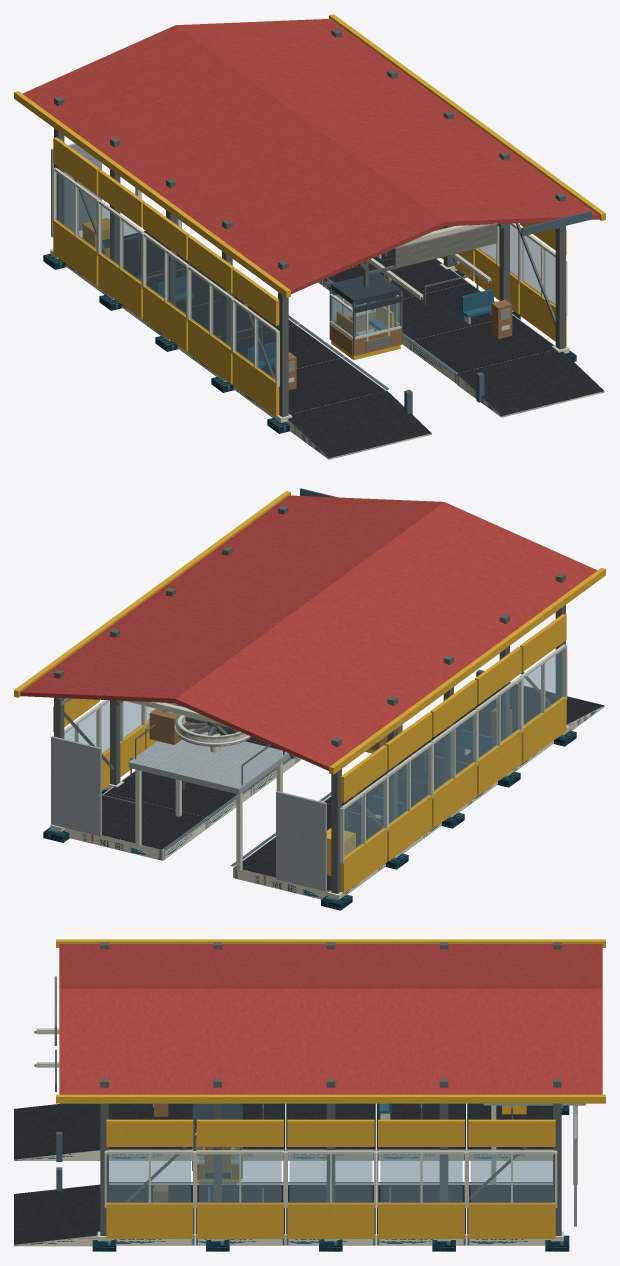
File: CABLE_STATION_local.glb
The picture shows the model from 3 angles, top to bottom: view 1: azimuth 30°, elevation 25°; view 2: azimuth 150°, elevation 25°; view 3: azimuth 270°, elevation 25°; orthographic projection.
Visible parts, largest first — view 1: ROOF_WEST_4m_PANEL_00, ROOF_WEST_4m_PANEL_02, ROOF_WEST_4m_PANEL_03, ROOF_WEST_4m_PANEL_04, ROOF_WEST_4m_PANEL_01, ROOF_WEST_4m_PANEL_05, Passenger_Access_Ramp_LEFT, ROOF_EAST_4m_PANEL_00, Passenger_Access_Ramp_RIGHT, ROOF_EAST_4m_PANEL_02, ROOF_EAST_4m_PANEL_03, ROOF_EAST_4m_PANEL_04 (+42 smaller); view 2: ROOF_WEST_4m_PANEL_05, ROOF_WEST_4m_PANEL_03, ROOF_WEST_4m_PANEL_02, ROOF_WEST_4m_PANEL_04, ROOF_WEST_4m_PANEL_01, ROOF_WEST_4m_PANEL_00, ROOF_EAST_4m_PANEL_05, ROOF_EAST_4m_PANEL_03, ROOF_EAST_4m_PANEL_02, ROOF_EAST_4m_PANEL_01, ROOF_EAST_4m_PANEL_00, ROOF_EAST_4m_PANEL_04 (+37 smaller); view 3: ROOF_EAST_4m_PANEL_01, ROOF_EAST_4m_PANEL_02, ROOF_EAST_4m_PANEL_03, ROOF_EAST_4m_PANEL_00, ROOF_EAST_4m_PANEL_04, ROOF_EAST_4m_PANEL_05, SIDEWALL_EAST_PANEL_AND_WINDOW_FRAMES_01, SIDEWALL_EAST_PANEL_AND_WINDOW_FRAMES_04, SIDEWALL_EAST_PANEL_AND_WINDOW_FRAMES_00, SIDEWALL_EAST_PANEL_AND_WINDOW_FRAMES_03, SIDEWALL_EAST_PANEL_AND_WINDOW_FRAMES_02, ROOF_EAST_EDGE_FASCIA (+40 smaller).
Part boxes in pixels (bbox=[...]): ROOF_WEST_4m_PANEL_00: bbox=[246, 189, 444, 294]; ROOF_WEST_4m_PANEL_02: bbox=[157, 123, 354, 224]; ROOF_WEST_4m_PANEL_03: bbox=[112, 91, 309, 191]; ROOF_WEST_4m_PANEL_04: bbox=[67, 58, 264, 158]; ROOF_WEST_4m_PANEL_01: bbox=[202, 156, 399, 257]; ROOF_WEST_4m_PANEL_05: bbox=[22, 25, 219, 126]; Passenger_Access_Ramp_LEFT: bbox=[286, 390, 431, 459]; ROOF_EAST_4m_PANEL_00: bbox=[400, 182, 599, 226]; Passenger_Access_Ramp_RIGHT: bbox=[457, 349, 604, 417]; ROOF_EAST_4m_PANEL_02: bbox=[310, 117, 509, 156]; ROOF_EAST_4m_PANEL_03: bbox=[265, 84, 464, 123]; ROOF_EAST_4m_PANEL_04: bbox=[221, 51, 419, 90]; ROOF_WEST_4m_PANEL_05: bbox=[175, 666, 373, 770]; ROOF_WEST_4m_PANEL_03: bbox=[265, 600, 462, 701]; ROOF_WEST_4m_PANEL_02: bbox=[310, 567, 507, 668]; ROOF_WEST_4m_PANEL_04: bbox=[220, 633, 418, 734]; ROOF_WEST_4m_PANEL_01: bbox=[355, 534, 552, 635]; ROOF_WEST_4m_PANEL_00: bbox=[400, 502, 597, 602]; ROOF_EAST_4m_PANEL_05: bbox=[20, 659, 219, 703]; ROOF_EAST_4m_PANEL_03: bbox=[110, 594, 309, 632]; ROOF_EAST_4m_PANEL_02: bbox=[155, 561, 354, 600]; ROOF_EAST_4m_PANEL_01: bbox=[200, 528, 398, 567]; ROOF_EAST_4m_PANEL_00: bbox=[245, 495, 443, 534]; ROOF_EAST_4m_PANEL_04: bbox=[65, 626, 264, 665]; ROOF_EAST_4m_PANEL_01: bbox=[149, 988, 240, 1094]; ROOF_EAST_4m_PANEL_02: bbox=[240, 988, 330, 1094]; ROOF_EAST_4m_PANEL_03: bbox=[331, 988, 421, 1094]; ROOF_EAST_4m_PANEL_00: bbox=[59, 988, 149, 1094]; ROOF_EAST_4m_PANEL_04: bbox=[421, 988, 511, 1094]; ROOF_EAST_4m_PANEL_05: bbox=[512, 988, 602, 1094]; SIDEWALL_EAST_PANEL_AND_WINDOW_FRAMES_01: bbox=[195, 1119, 285, 1238]; SIDEWALL_EAST_PANEL_AND_WINDOW_FRAMES_04: bbox=[466, 1119, 557, 1238]; SIDEWALL_EAST_PANEL_AND_WINDOW_FRAMES_00: bbox=[104, 1119, 194, 1238]; SIDEWALL_EAST_PANEL_AND_WINDOW_FRAMES_03: bbox=[376, 1119, 466, 1238]; SIDEWALL_EAST_PANEL_AND_WINDOW_FRAMES_02: bbox=[285, 1119, 375, 1238]; ROOF_EAST_EDGE_FASCIA: bbox=[56, 1094, 605, 1103].
Size of the model in its own units: 16.48 by 9.25 by 26.15.
Materials: 2 (1 with a texture image).
